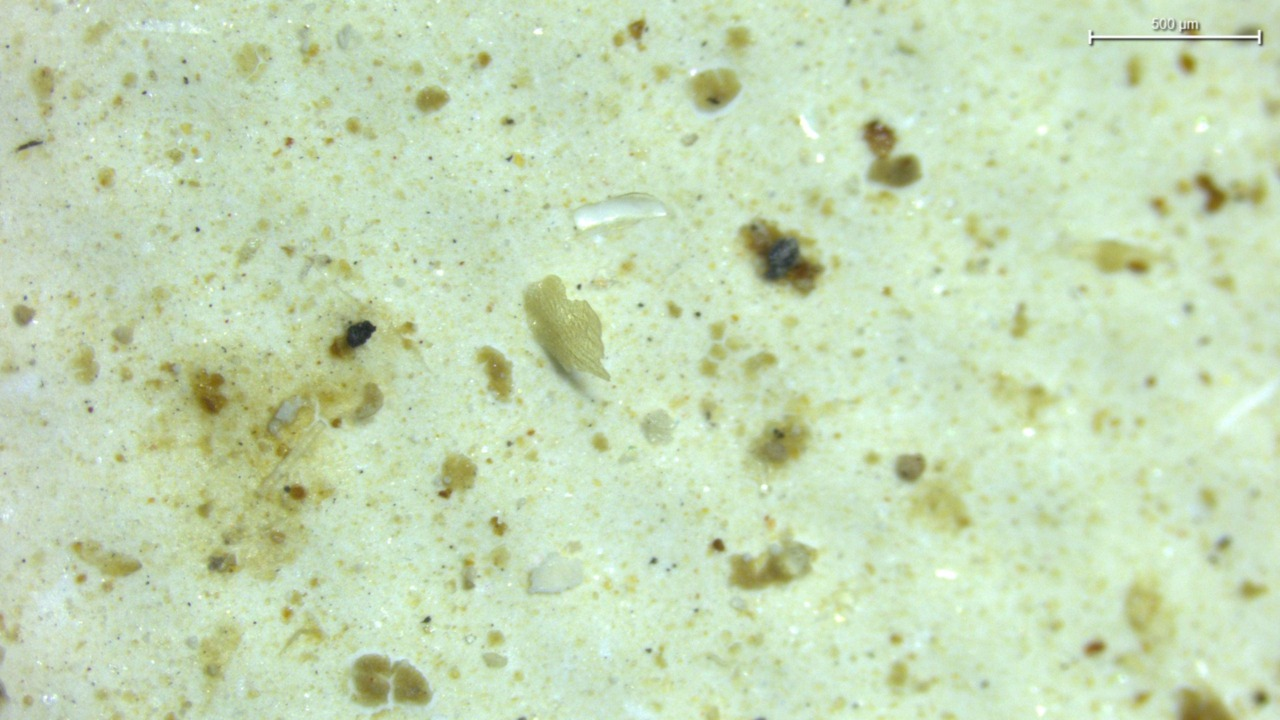microplastic_fragment: (523, 275, 610, 380), (529, 553, 584, 593), (269, 396, 304, 436), (641, 410, 675, 442)
